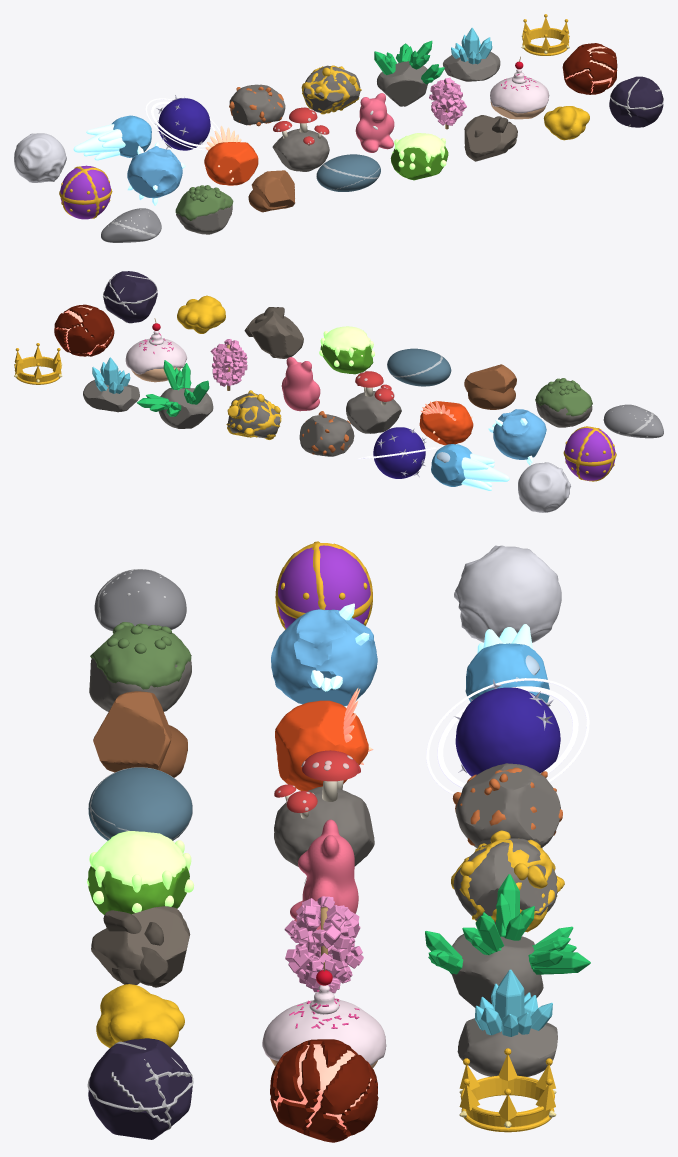
Rendered from Rocks.fbx.
The picture shows the model from 3 angles, top to bottom: view 1: azimuth 30°, elevation 25°; view 2: azimuth 150°, elevation 25°; view 3: azimuth 270°, elevation 25°; orthographic projection. The views are drawn at different scales.
Visible parts, largest first — view 1: RockMeteor_Body, RockLava_Crust, RockMoon_Body, RockRune_Body, RockGalaxy_Body, RockPhoenix_Body, RockRiver_Body, RockFrosted_Frosting, RockRoyal_Body, RockMushroom_Stone, RockBoulder_Body, RockGummy_Jelly (+24 smaller); view 2: RockLava_Crust, RockMoon_Body, RockGalaxy_Body, RockMeteor_Body, RockRune_Body, RockRiver_Body, RockRoyal_Body, RockOre_Stone, RockBoulder_Body, RockPhoenix_Body, RockFrosted_Frosting, RockMushroom_Stone (+22 smaller); view 3: RockLava_Crust, RockMoon_Body, RockMeteor_Body, RockRune_Body, RockGalaxy_Body, RockOre_Stone, RockRiver_Body, RockGemOre_Gem, RockFrosted_Frosting, RockCandy_Crystal, RockPhoenix_Body, Rock_Body (+25 smaller).
Part boxes in pixels (x1,y1,x2,y2): RockMeteor_Body: [127, 146, 182, 198]; RockLava_Crust: [562, 43, 617, 94]; RockMoon_Body: [14, 133, 66, 182]; RockRune_Body: [609, 76, 663, 127]; RockGalaxy_Body: [158, 98, 210, 150]; RockPhoenix_Body: [204, 142, 258, 185]; RockRiver_Body: [316, 154, 380, 191]; RockFrosted_Frosting: [490, 69, 549, 113]; RockRoyal_Body: [60, 165, 110, 219]; RockMushroom_Stone: [272, 128, 329, 171]; RockBoulder_Body: [464, 115, 517, 161]; RockGummy_Jelly: [355, 93, 394, 152]; RockLava_Crust: [54, 304, 114, 356]; RockMoon_Body: [518, 462, 570, 512]; RockGalaxy_Body: [373, 427, 425, 478]; RockMeteor_Body: [493, 409, 546, 459]; RockRune_Body: [103, 271, 157, 322]; RockRiver_Body: [387, 348, 451, 386]; RockRoyal_Body: [564, 428, 615, 480]; RockOre_Stone: [299, 414, 354, 456]; RockBoulder_Body: [248, 310, 303, 358]; RockPhoenix_Body: [419, 401, 473, 445]; RockFrosted_Frosting: [125, 331, 186, 374]; RockMushroom_Stone: [346, 391, 401, 433]; RockLava_Crust: [270, 1039, 378, 1142]; RockMoon_Body: [454, 545, 561, 642]; RockMeteor_Body: [271, 609, 377, 706]; RockRune_Body: [88, 1038, 192, 1139]; RockGalaxy_Body: [455, 687, 560, 776]; RockOre_Stone: [455, 763, 560, 848]; RockRiver_Body: [88, 767, 192, 840]; RockGemOre_Gem: [425, 874, 590, 974]; RockFrosted_Frosting: [262, 985, 386, 1065]; RockCandy_Crystal: [284, 896, 363, 993]; RockPhoenix_Body: [275, 700, 368, 790]; Rock_Body: [93, 691, 171, 772].
Bounding box in the file's own units: 2480 × 252 × 966.
